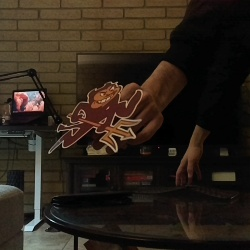sparky: (47, 80, 143, 154)
